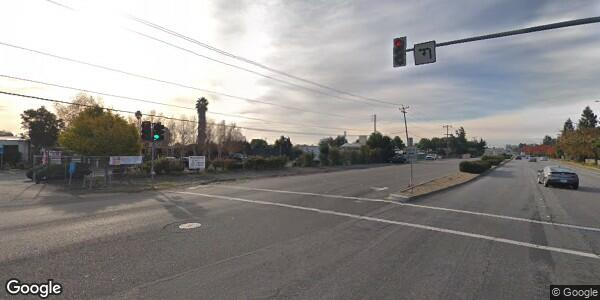Wood_Pole: (396, 103, 413, 155)
